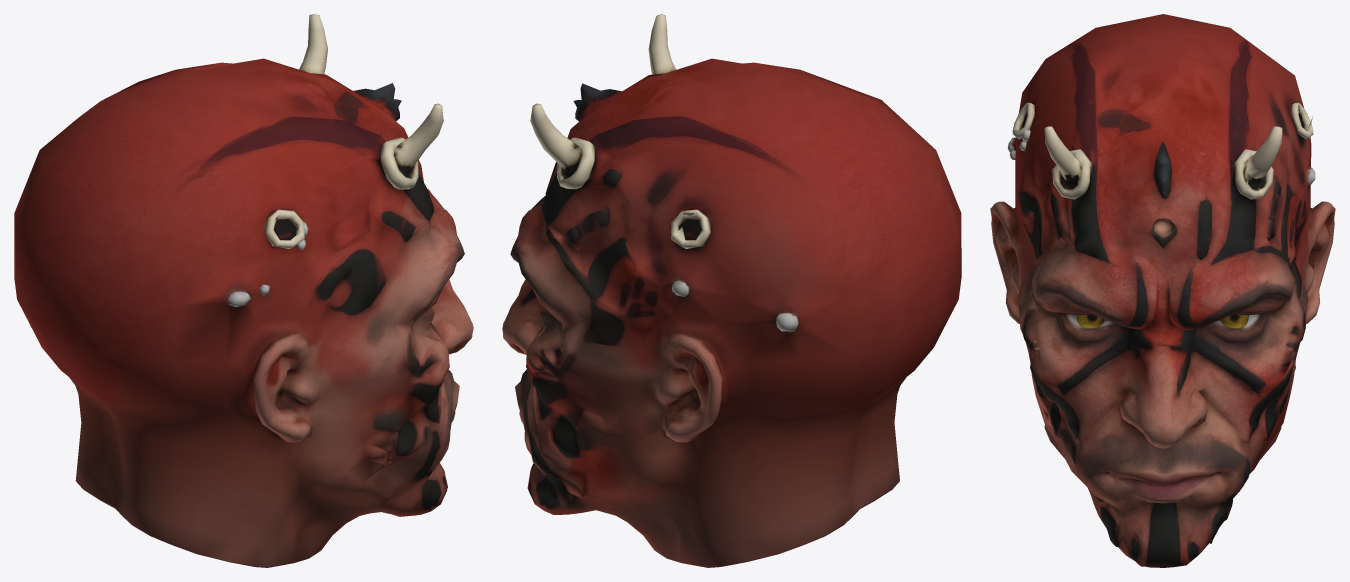
File: source.glb
3 renders of one model, left to right at view 1: azimuth 30°, elevation 25°; view 2: azimuth 150°, elevation 25°; view 3: azimuth 270°, elevation 25°, orthographic. The views are drawn at different scales.
Visible parts, largest first — view 1: tripo_node_ffbd8eb8-4191-431e-abac-1a6f4d30baf6; view 2: tripo_node_ffbd8eb8-4191-431e-abac-1a6f4d30baf6; view 3: tripo_node_ffbd8eb8-4191-431e-abac-1a6f4d30baf6.
Boxes of the visible parts, x1=… form: tripo_node_ffbd8eb8-4191-431e-abac-1a6f4d30baf6: x1=14, y1=14, x2=473, y2=567; tripo_node_ffbd8eb8-4191-431e-abac-1a6f4d30baf6: x1=502, y1=14, x2=961, y2=567; tripo_node_ffbd8eb8-4191-431e-abac-1a6f4d30baf6: x1=990, y1=14, x2=1335, y2=567.
Size of the model in its own units: 0.9335 by 0.9941 by 0.6986.
1 material, 1 textured.
